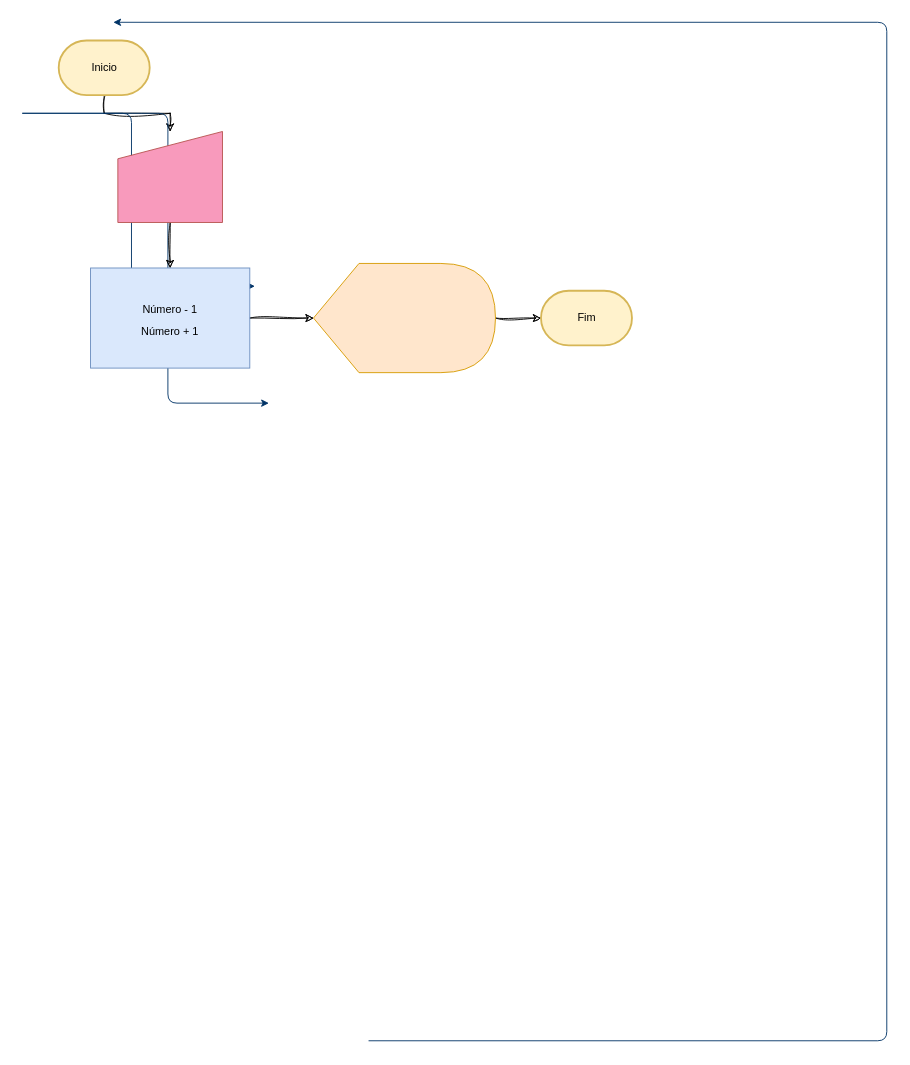
Image size: 910x1065. Some labels were removed from this diagram. Here are the shapes that lost their labels. From the top down, the box of each, then its label:
(117, 131, 222, 222): Número
(313, 263, 495, 373): O número é___ o antecessor é ___antecessor ___e o sucessor é __
